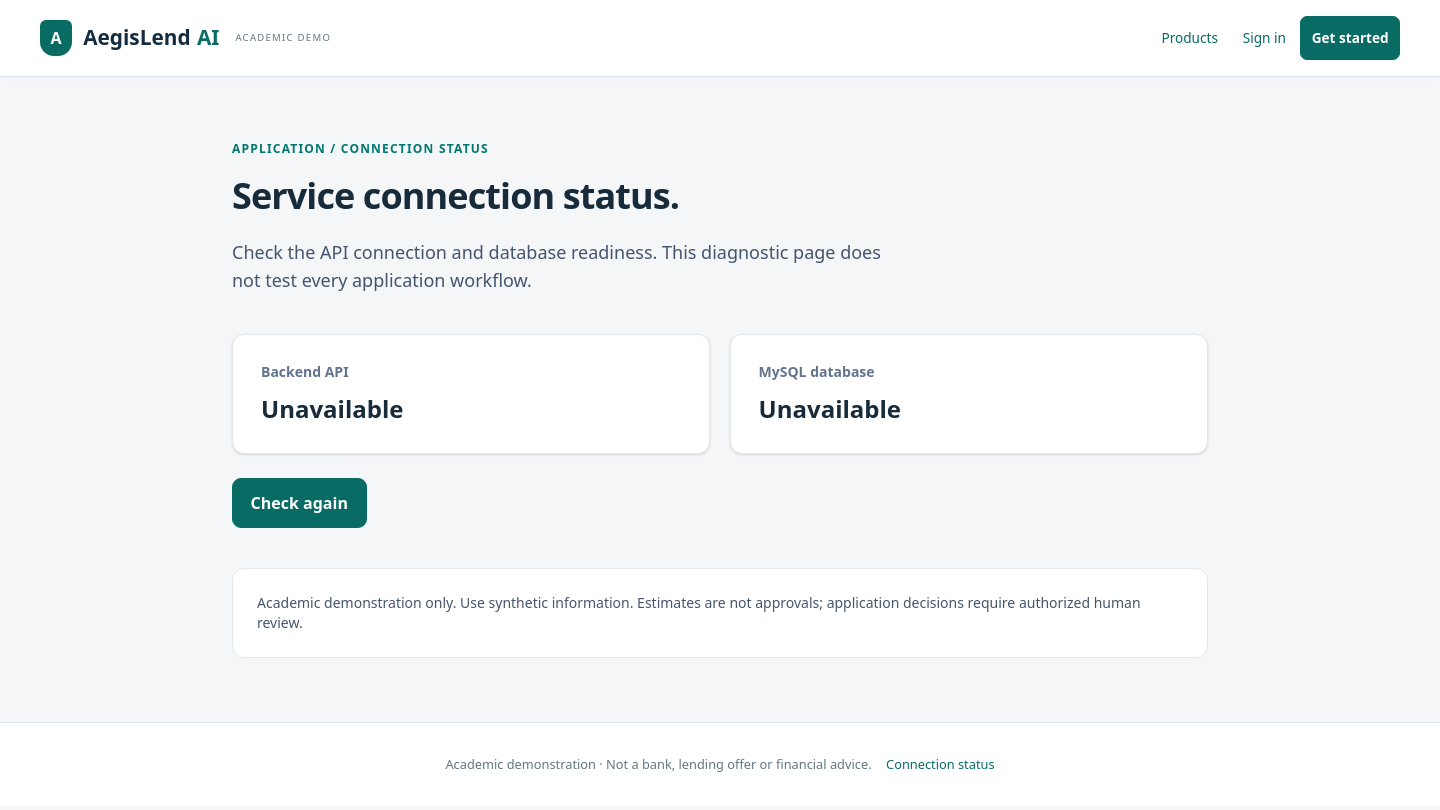
shows failure and allows retry without a page reload
Check: the text "Unavailable" is shown 2 times, box [261,392,403,424]; [759,392,901,424]
Click the button "Check again". click: point(299, 502)
box: [232,478,366,528]
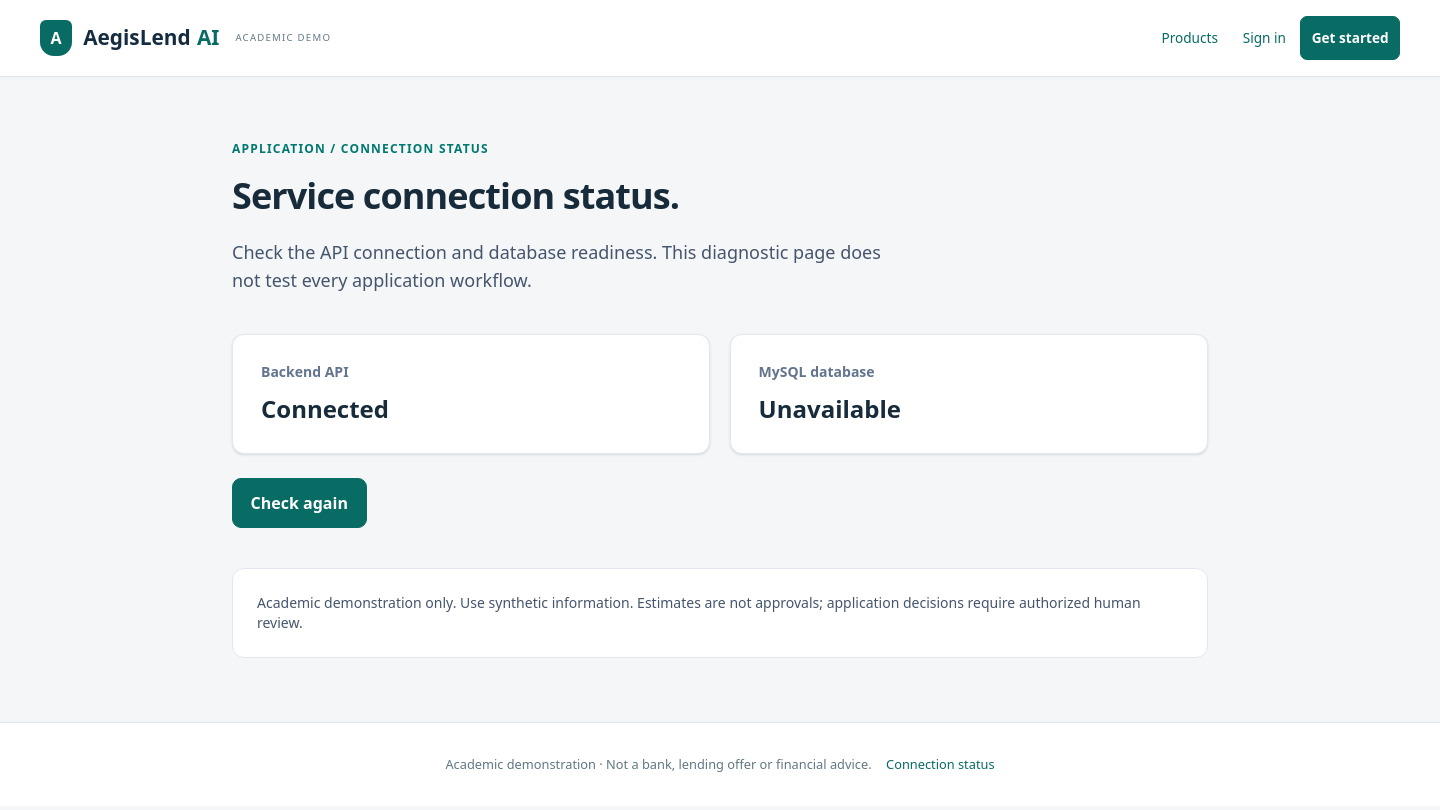
Check: the text "Connected" is shown, box [261,392,389,424]
